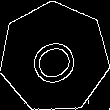O_NE: (23, 26, 86, 88)
